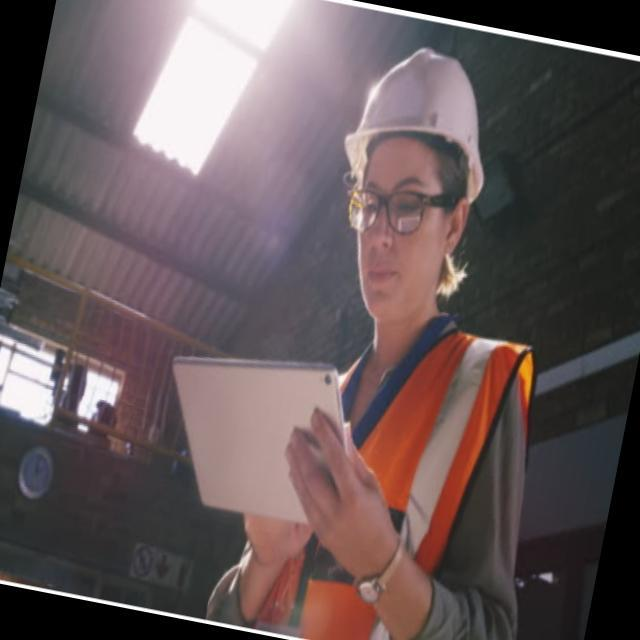hard_hat: (311, 25, 510, 328)
vest: (228, 286, 550, 640)
